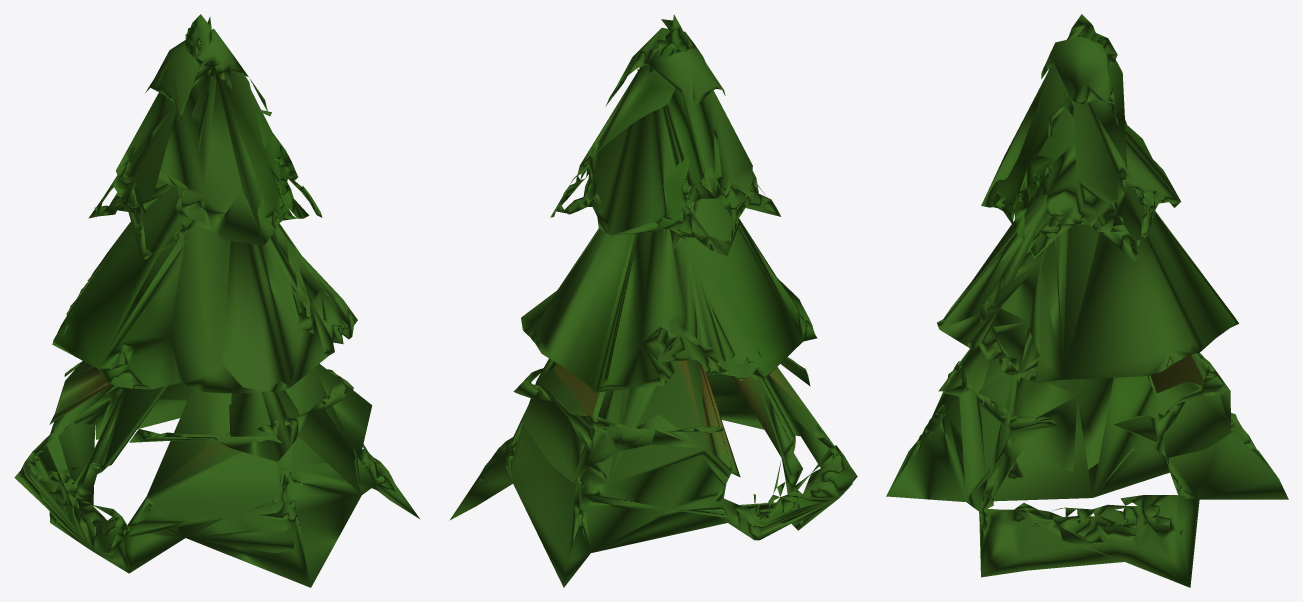
File: gen3d-spruce-tree-lod0.glb
The picture shows the model from 3 angles, left to right: view 1: azimuth 30°, elevation 25°; view 2: azimuth 150°, elevation 25°; view 3: azimuth 270°, elevation 25°; orthographic projection. The views are drawn at different scales.
Parts seen in each view (by area): view 1: part_0; view 2: part_0; view 3: part_0.
Part boxes in pixels (x1,y1,x2,y2): part_0: (14,14,420,587); part_0: (449,14,857,587); part_0: (886,14,1288,587).
Bounding box in the file's own units: 0.631 × 1 × 0.7396.
